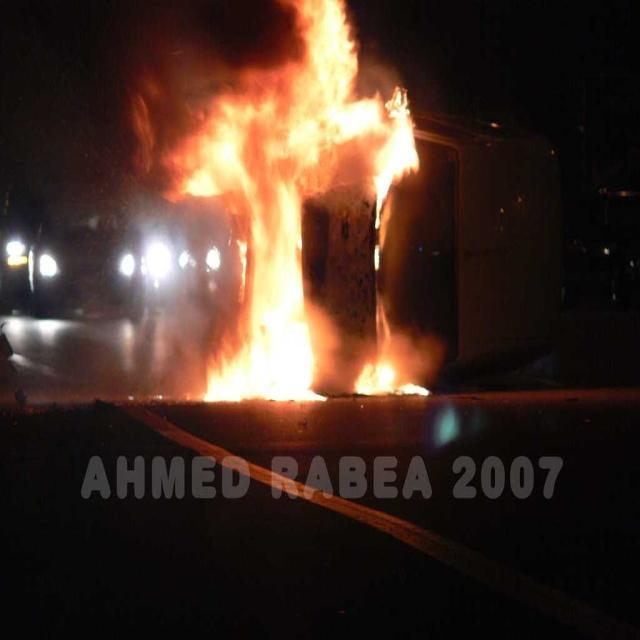Fire: (219, 105, 329, 197), (255, 203, 300, 320), (230, 332, 311, 392), (385, 123, 413, 190)
